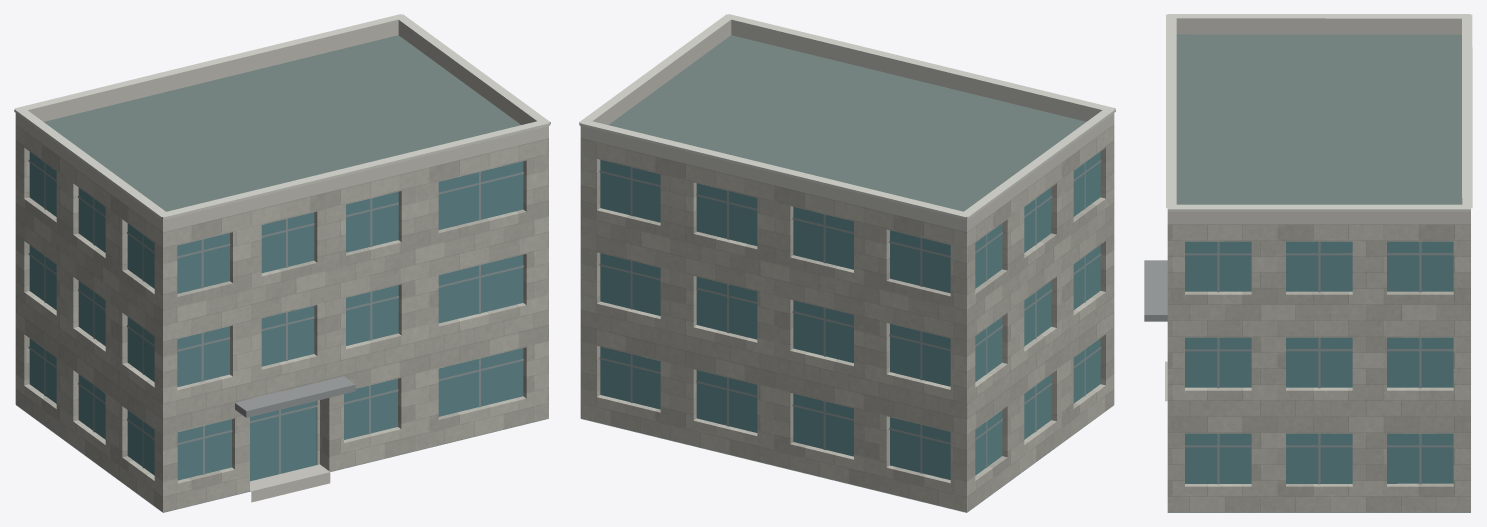
The picture shows the model from 3 angles, left to right: view 1: azimuth 30°, elevation 25°; view 2: azimuth 150°, elevation 25°; view 3: azimuth 270°, elevation 25°; orthographic projection. The views are drawn at different scales.
Parts seen in each view (by area): view 1: cafe__wall, cafe__glass, cafe__roof, cafe__parapet, cafe__trim, cafe__frame, cafe__canopy, cafe__entranceThreshold; view 2: cafe__wall, cafe__glass, cafe__roof, cafe__parapet, cafe__trim, cafe__frame; view 3: cafe__wall, cafe__roof, cafe__glass, cafe__parapet, cafe__trim, cafe__frame, cafe__canopy.
Boxes of the visible parts, x1=… form: cafe__wall: x1=15, y1=125, x2=548, y2=512; cafe__glass: x1=29, y1=152, x2=523, y2=481; cafe__roof: x1=16, y1=35, x2=548, y2=512; cafe__parapet: x1=15, y1=19, x2=548, y2=232; cafe__trim: x1=14, y1=14, x2=550, y2=219; cafe__frame: x1=28, y1=160, x2=523, y2=474; cafe__canopy: x1=235, y1=376, x2=355, y2=417; cafe__entranceThreshold: x1=250, y1=464, x2=330, y2=502; cafe__wall: x1=580, y1=125, x2=1114, y2=512; cafe__glass: x1=600, y1=151, x2=1100, y2=479; cafe__roof: x1=581, y1=35, x2=1113, y2=512; cafe__parapet: x1=580, y1=19, x2=1114, y2=232; cafe__trim: x1=579, y1=14, x2=1115, y2=219; cafe__frame: x1=599, y1=160, x2=1101, y2=473; cafe__wall: x1=1167, y1=224, x2=1470, y2=512; cafe__roof: x1=1167, y1=34, x2=1470, y2=512; cafe__glass: x1=1185, y1=241, x2=1453, y2=483; cafe__parapet: x1=1167, y1=18, x2=1470, y2=224; cafe__trim: x1=1166, y1=14, x2=1472, y2=211; cafe__frame: x1=1185, y1=241, x2=1453, y2=484; cafe__canopy: x1=1144, y1=260, x2=1167, y2=321.
Size of the model in its own units: 15.7 by 11.8 by 11.17.
9 materials, 1 textured.
